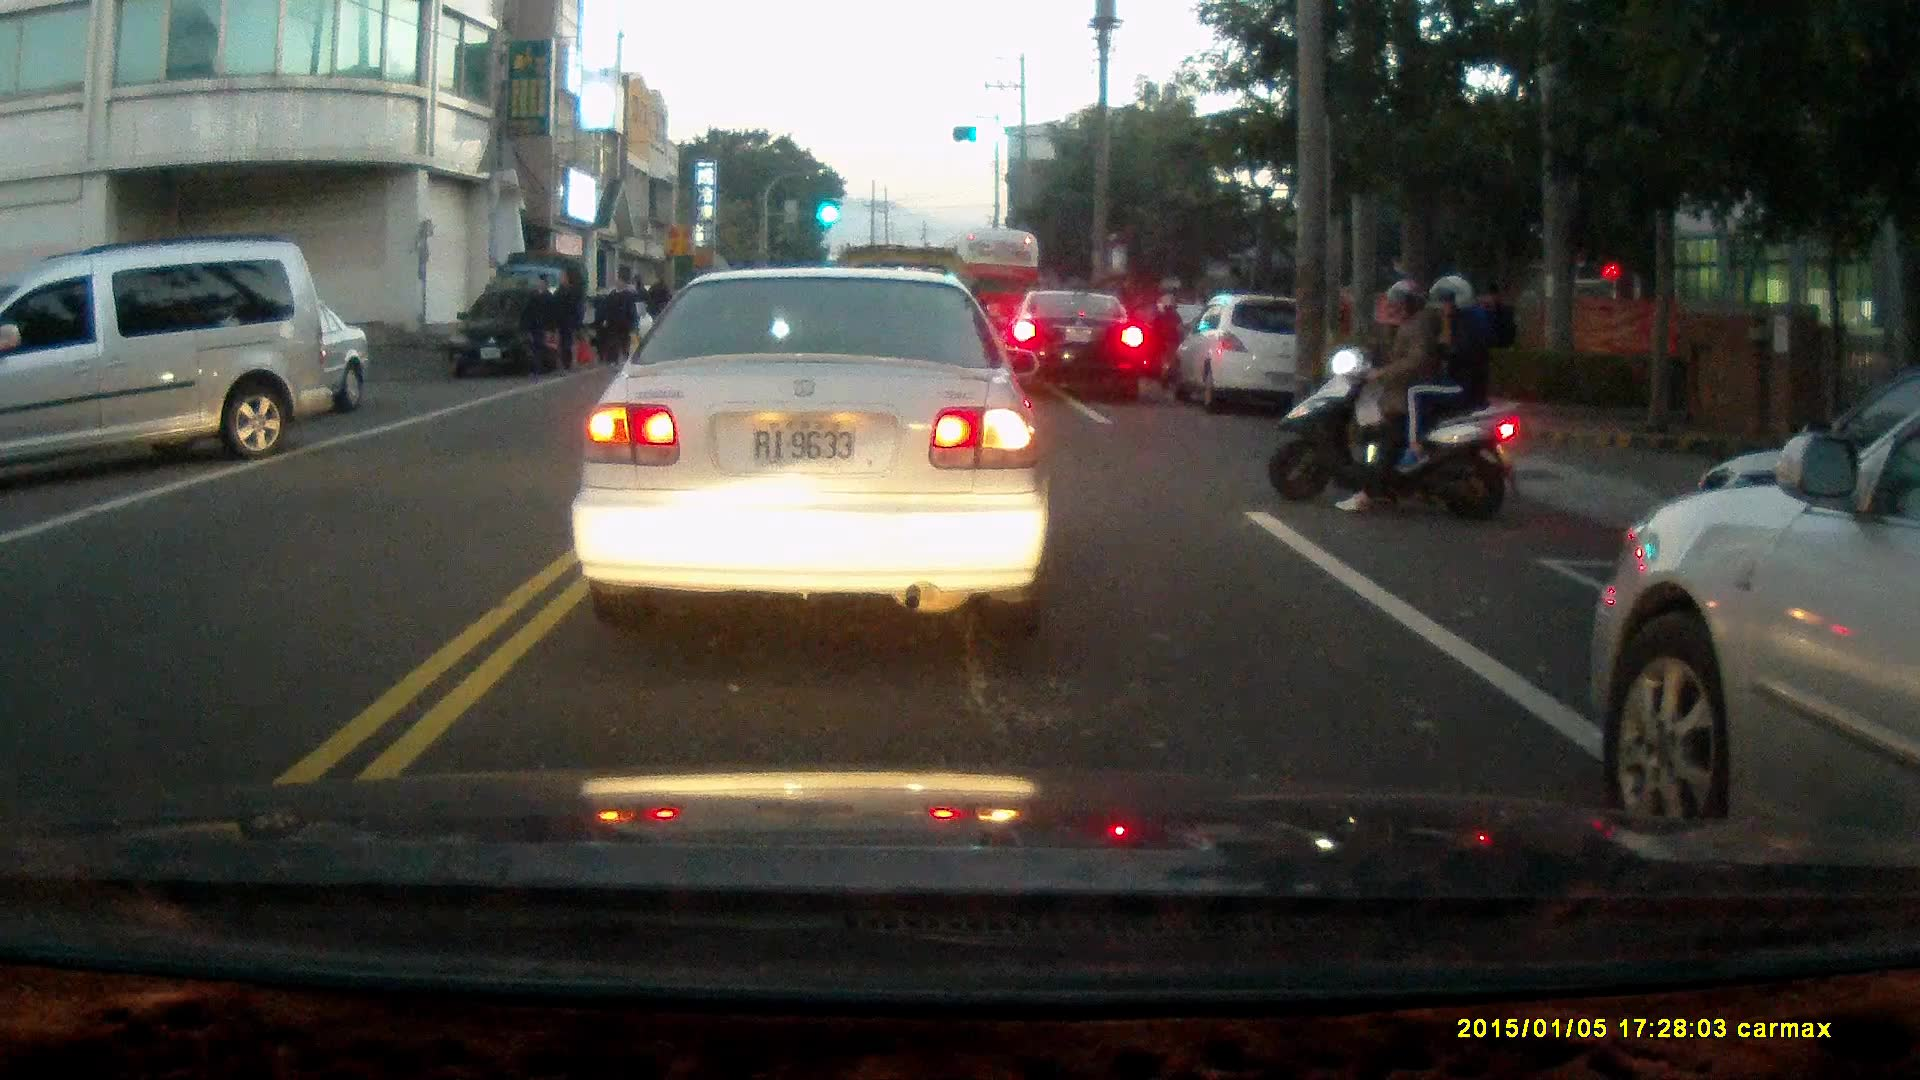pedestrian: (1472, 280, 1518, 382), (522, 267, 562, 379), (546, 268, 580, 377), (597, 270, 632, 366), (645, 275, 672, 346)
rider: (1256, 268, 1515, 528), (1151, 288, 1189, 390)
vehicle: (572, 259, 1053, 648), (1580, 376, 1920, 850), (1, 243, 336, 481), (1184, 293, 1334, 406), (1007, 290, 1147, 402), (444, 282, 586, 381)
